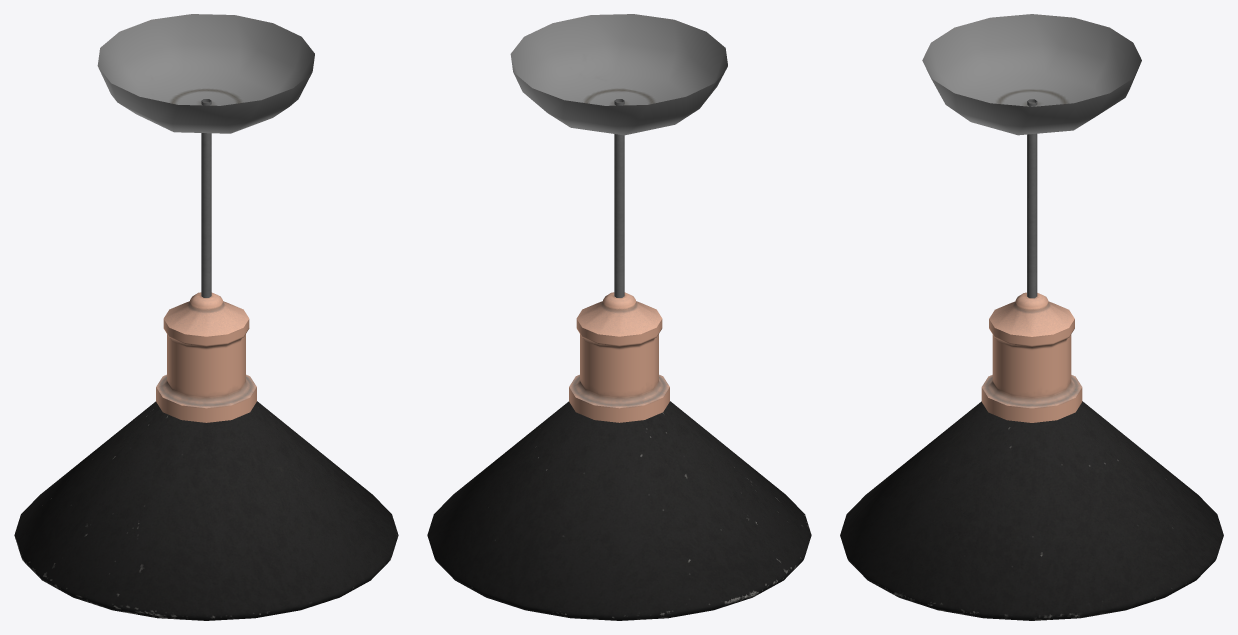
The model's file is main_lamp.fbx.
The picture shows the model from 3 angles, left to right: view 1: azimuth 30°, elevation 25°; view 2: azimuth 150°, elevation 25°; view 3: azimuth 270°, elevation 25°; orthographic projection.
Parts seen in each view (by area): view 1: Lamp_Kitchen_B; view 2: Lamp_Kitchen_B; view 3: Lamp_Kitchen_B.
Boxes of the visible parts, box(x1,y1,x2,y2) form: Lamp_Kitchen_B: box(14, 14, 398, 620); Lamp_Kitchen_B: box(427, 14, 811, 620); Lamp_Kitchen_B: box(840, 14, 1223, 620).
Size of the model in its own units: 27.9 by 38.57 by 27.9.
